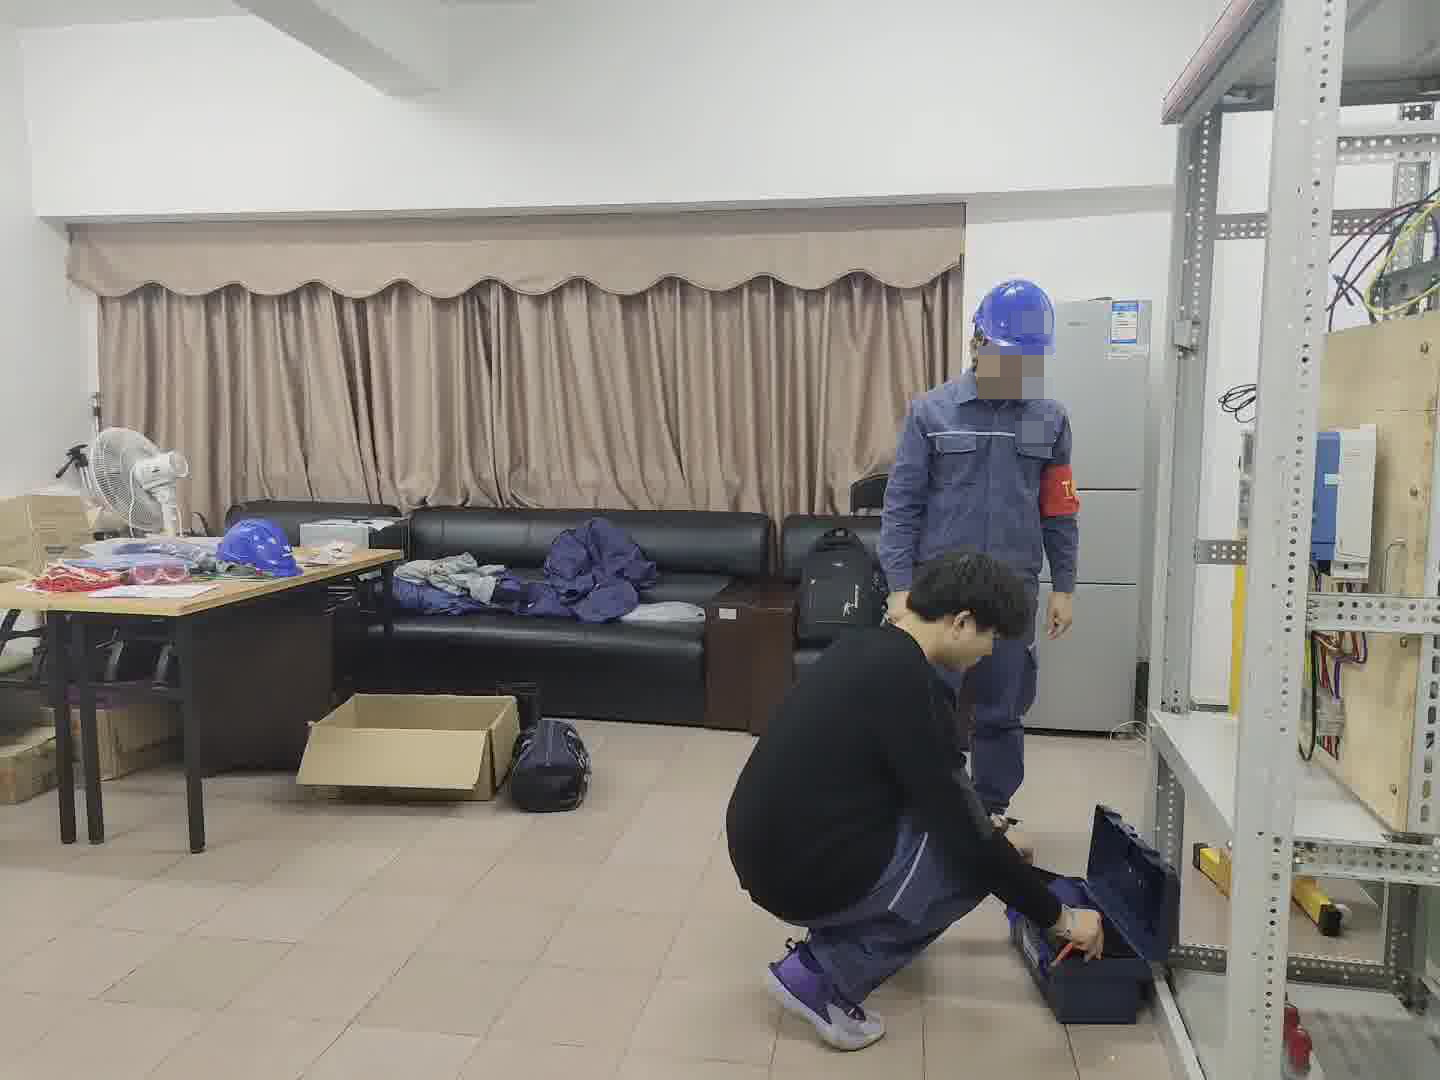badge: (1040, 462, 1079, 519)
downsuit: (797, 827, 1017, 998)
halt: (967, 275, 1060, 387)
hand: (1060, 902, 1115, 965), (1042, 597, 1075, 637)
inear: (954, 326, 992, 371)
noear: (942, 608, 981, 643)
person: (730, 476, 1167, 1050), (853, 272, 1141, 1051), (874, 273, 1096, 760)
unhalt: (897, 545, 1037, 683)
upcloth: (733, 618, 1063, 935)
upsuit: (879, 374, 1082, 596)
